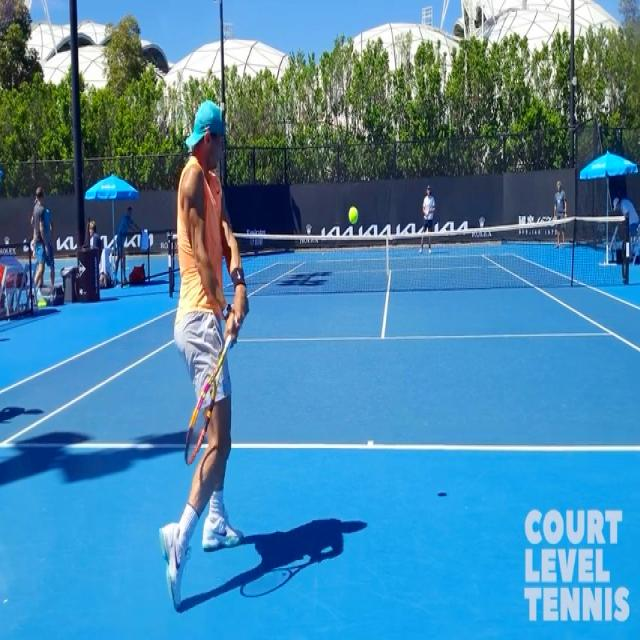backhand-stroke: (156, 98, 250, 607)
